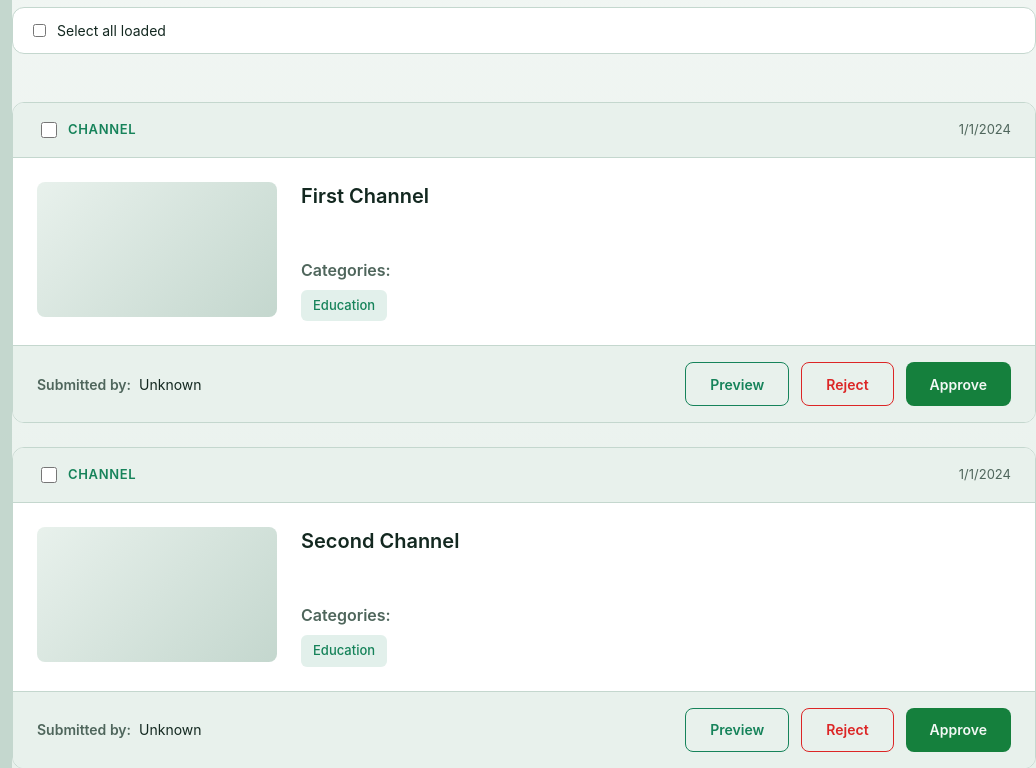
it: acting on an item keeps the reviewer in place › drops the approved item from the queue without refetching it
The image size is (1036, 768).
(page scrolled)
Expected: the heading "First Channel" is shown, x1=301 y1=184 x2=429 y2=208
Click the 1st button "Approve" at {"x": 958, "y": 384}, box x1=906 y1=362 x2=1011 y2=406
(page scrolled)
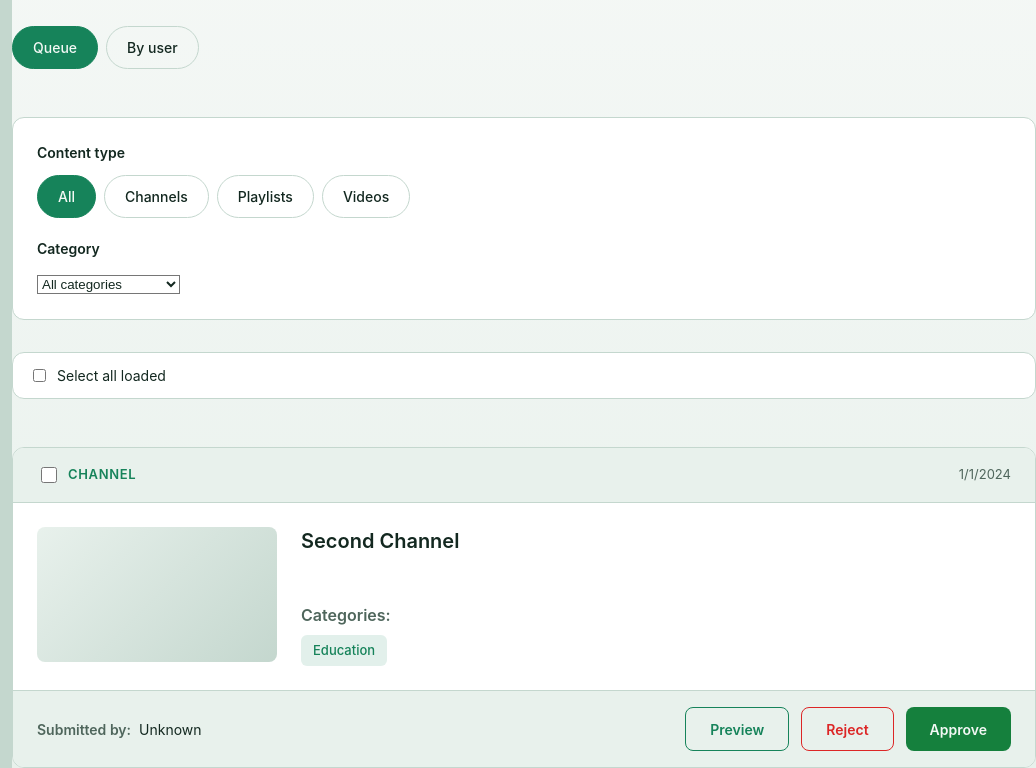
Expected: the heading "Second Channel" is shown, x1=301 y1=528 x2=459 y2=552
Result: the heading "First Channel" is gone
